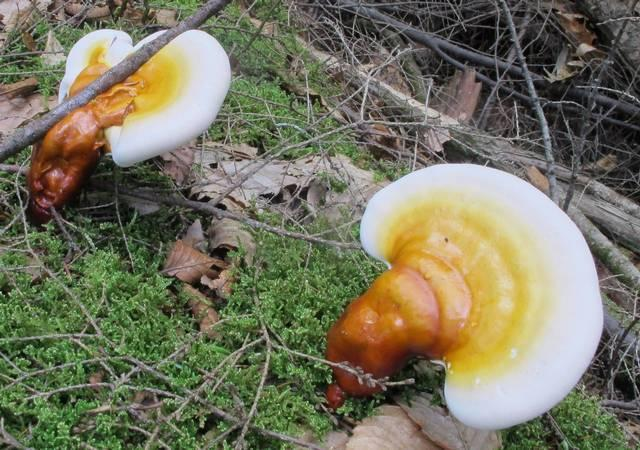Non-edible Mushroom: (323, 161, 605, 431), (25, 25, 231, 224)
